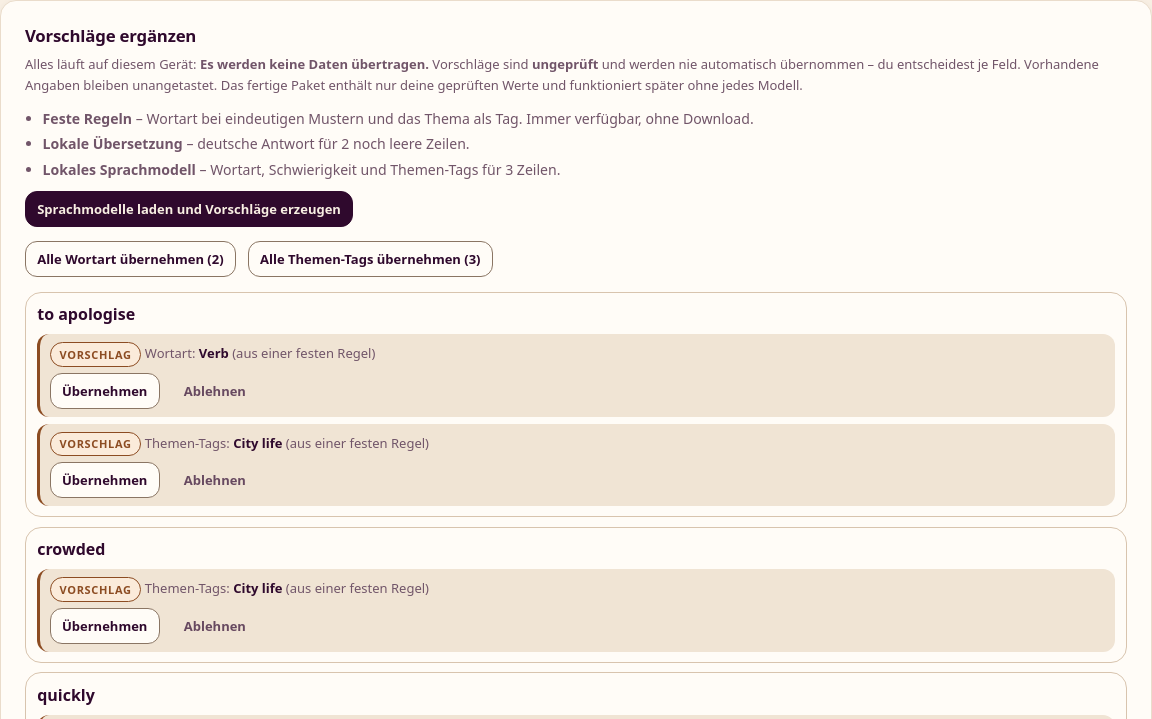
Test case: User Activation: beide Anbieter starten im selben Klick › lässt die Übersetzung arbeiten, wenn das Sprachmodell scheitert
Click the button "Sprachmodelle laden und Vorschläge erzeugen" at coordinates (189, 209), box [25,191,353,227]
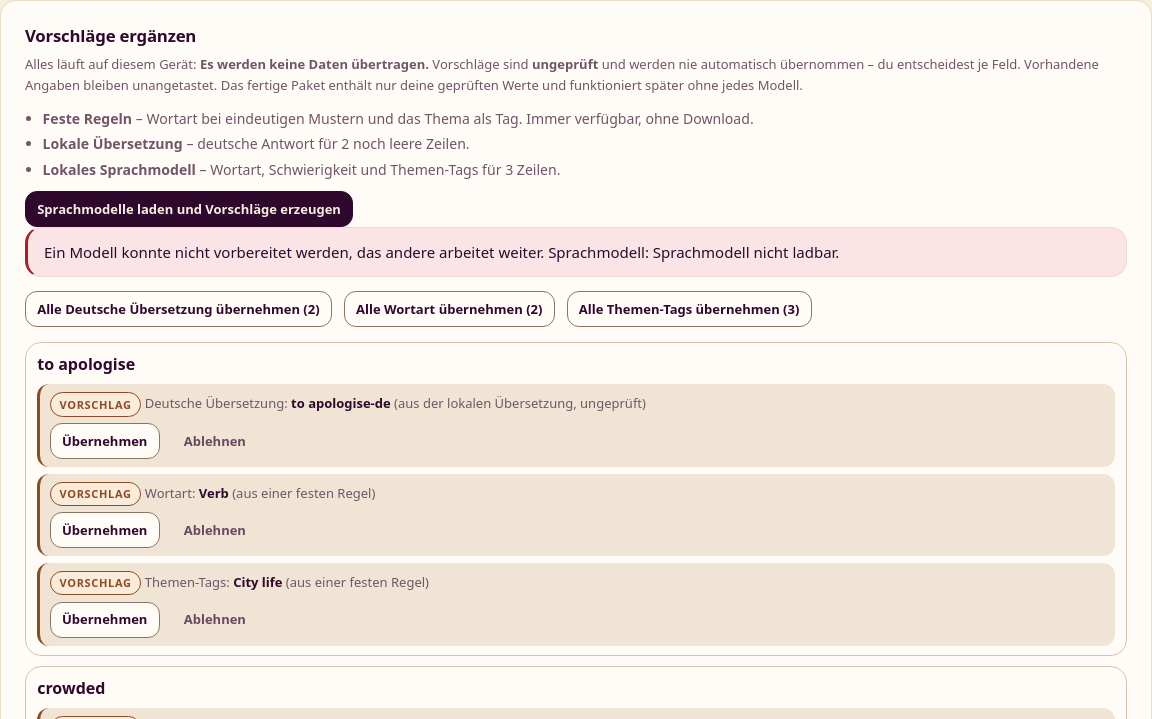
Result: the text "to apologise-de" is shown at [291,395,391,413]
Result: the text "Sprachmodell nicht ladbar" is shown at [44,242,839,262]
